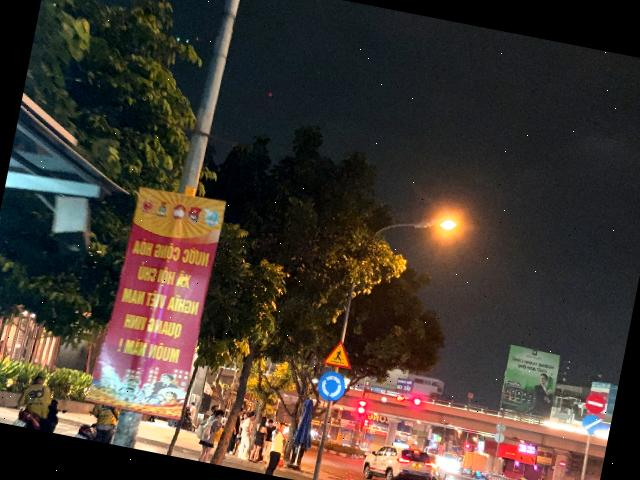cam-di-nguoc-chieu: (582, 391, 606, 416)
duong-nguoi-di-bo-cat-ngang: (322, 337, 356, 369)
huong-phai-di-vong-chuong-ngai-vat: (580, 414, 604, 436)
noi-giao-nhau-chay-theo-vong-xuyen: (316, 368, 348, 403)
